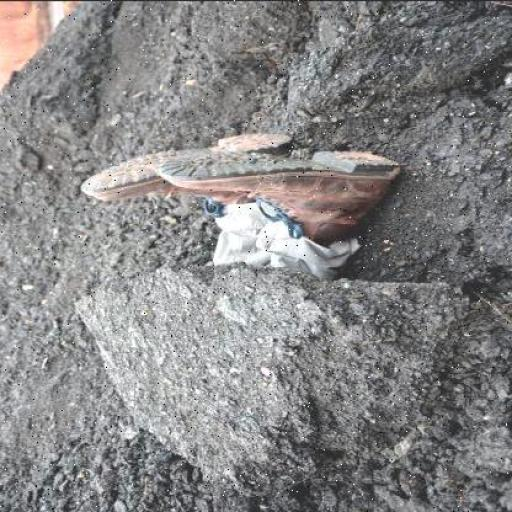safety_shoe: (167, 149, 397, 233), (92, 128, 288, 201)
